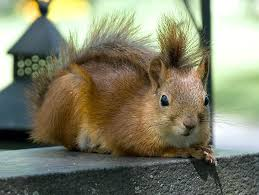Ardilla: (60, 49, 223, 163)
